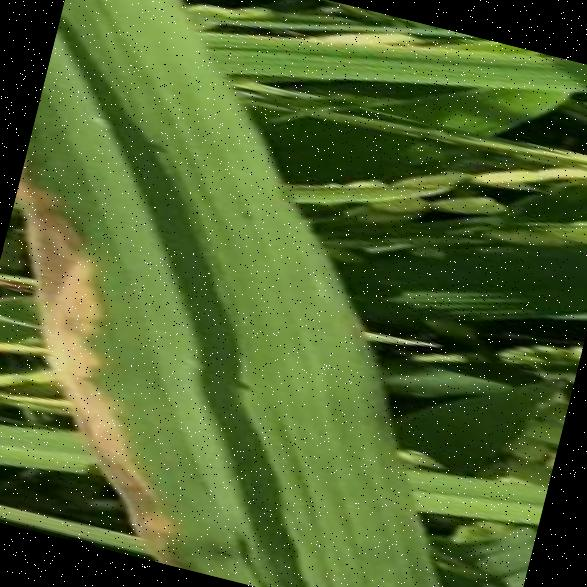Bacteria_Leaf_Blight: (0, 0, 424, 587)
